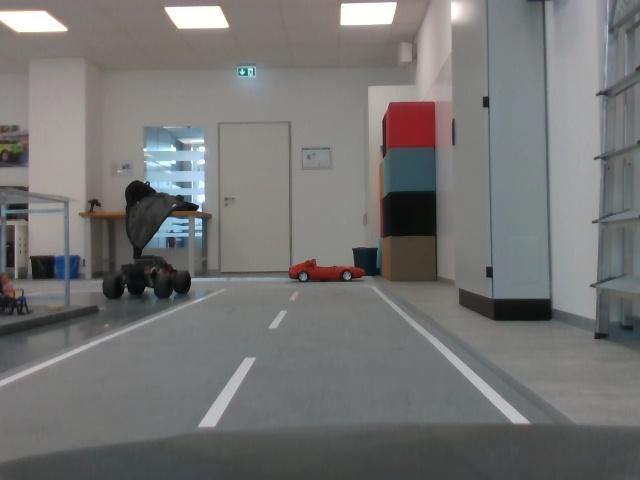car: (106, 253, 194, 308), (292, 259, 373, 288)
person: (2, 263, 39, 321)
